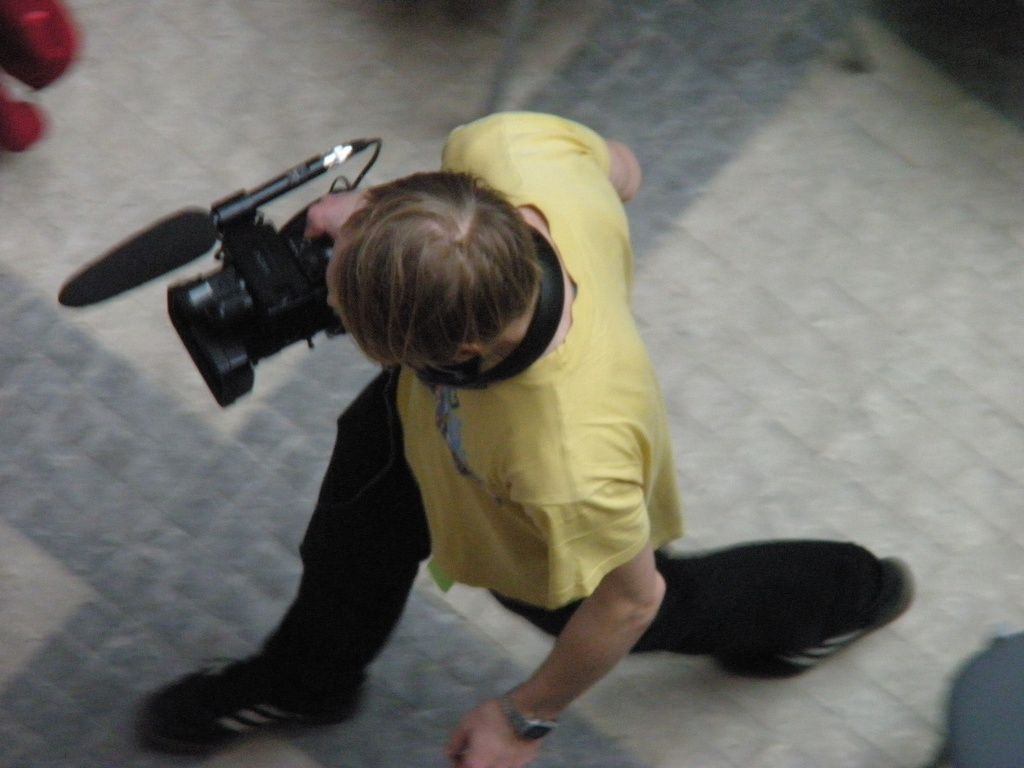Human_hand: (444, 700, 541, 767), (301, 184, 378, 246)
